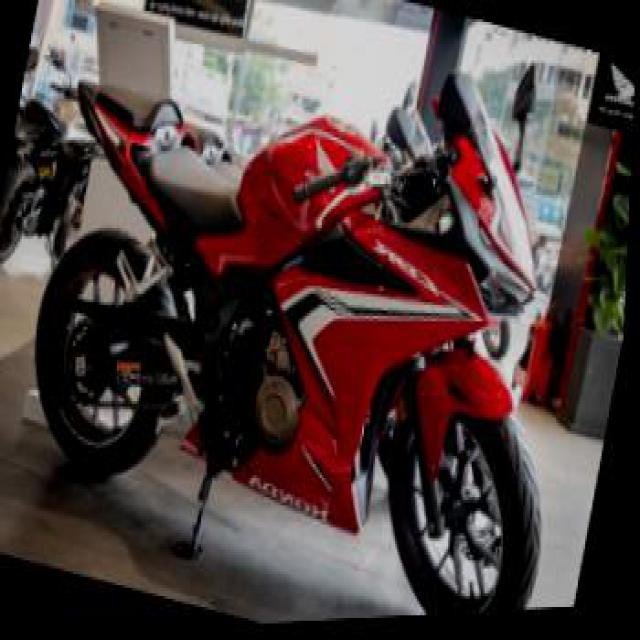CBR500R: (5, 0, 631, 638)
